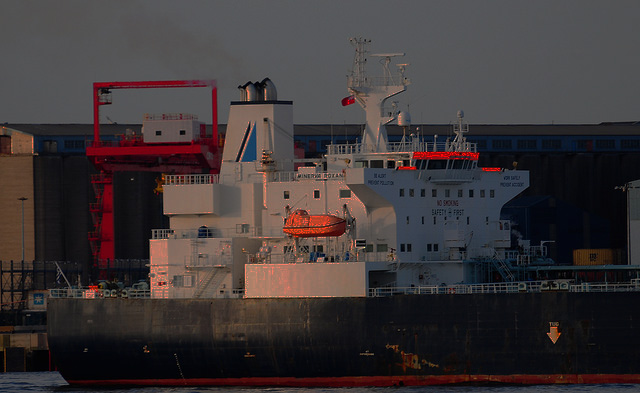tanker: (41, 38, 634, 381)
